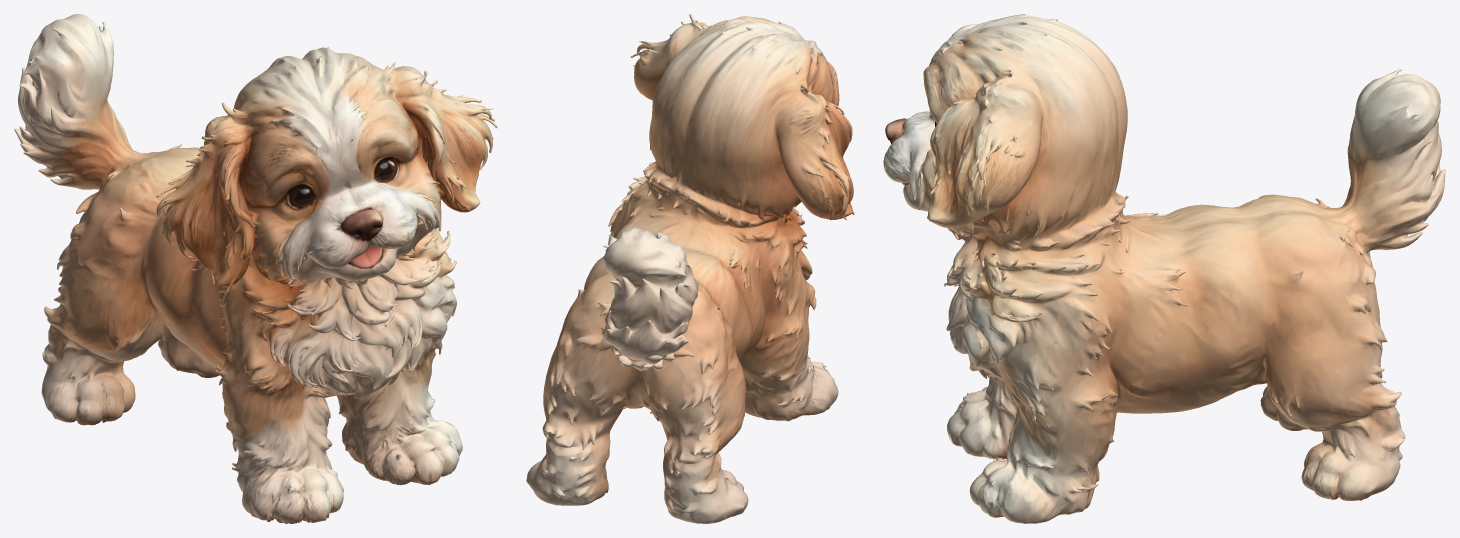
File: puppy.glb
3 views of the same model, side by side, from view 1: azimuth 30°, elevation 25°; view 2: azimuth 150°, elevation 25°; view 3: azimuth 270°, elevation 25° (orthographic). The views are drawn at different scales.
Parts seen in each view (by area): view 1: tripo_node_1e0c788f-0e7c-463f-8700-e578134c1924; view 2: tripo_node_1e0c788f-0e7c-463f-8700-e578134c1924; view 3: tripo_node_1e0c788f-0e7c-463f-8700-e578134c1924.
Boxes of the visible parts, x1,y1,x2,y2 form: tripo_node_1e0c788f-0e7c-463f-8700-e578134c1924: (14, 14, 497, 523); tripo_node_1e0c788f-0e7c-463f-8700-e578134c1924: (526, 14, 854, 523); tripo_node_1e0c788f-0e7c-463f-8700-e578134c1924: (883, 14, 1445, 523).
Size of the model in its own units: 0.6032 by 0.8484 by 0.9805.
1 material, 1 textured.
